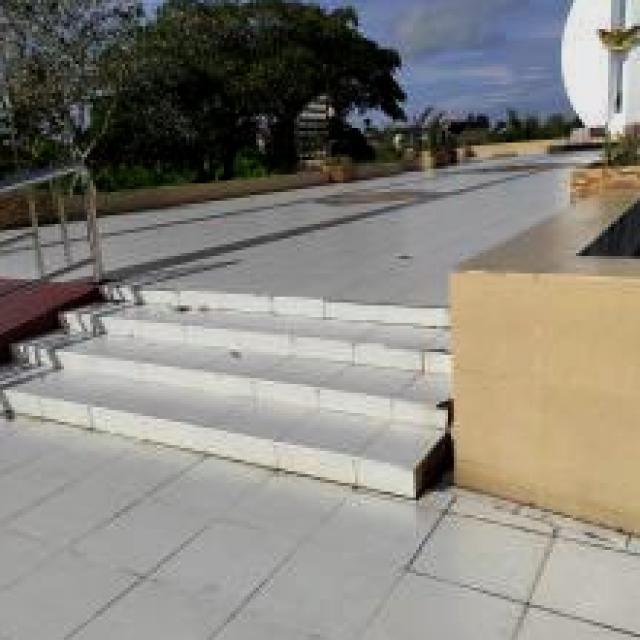upstair: (94, 272, 437, 502)
